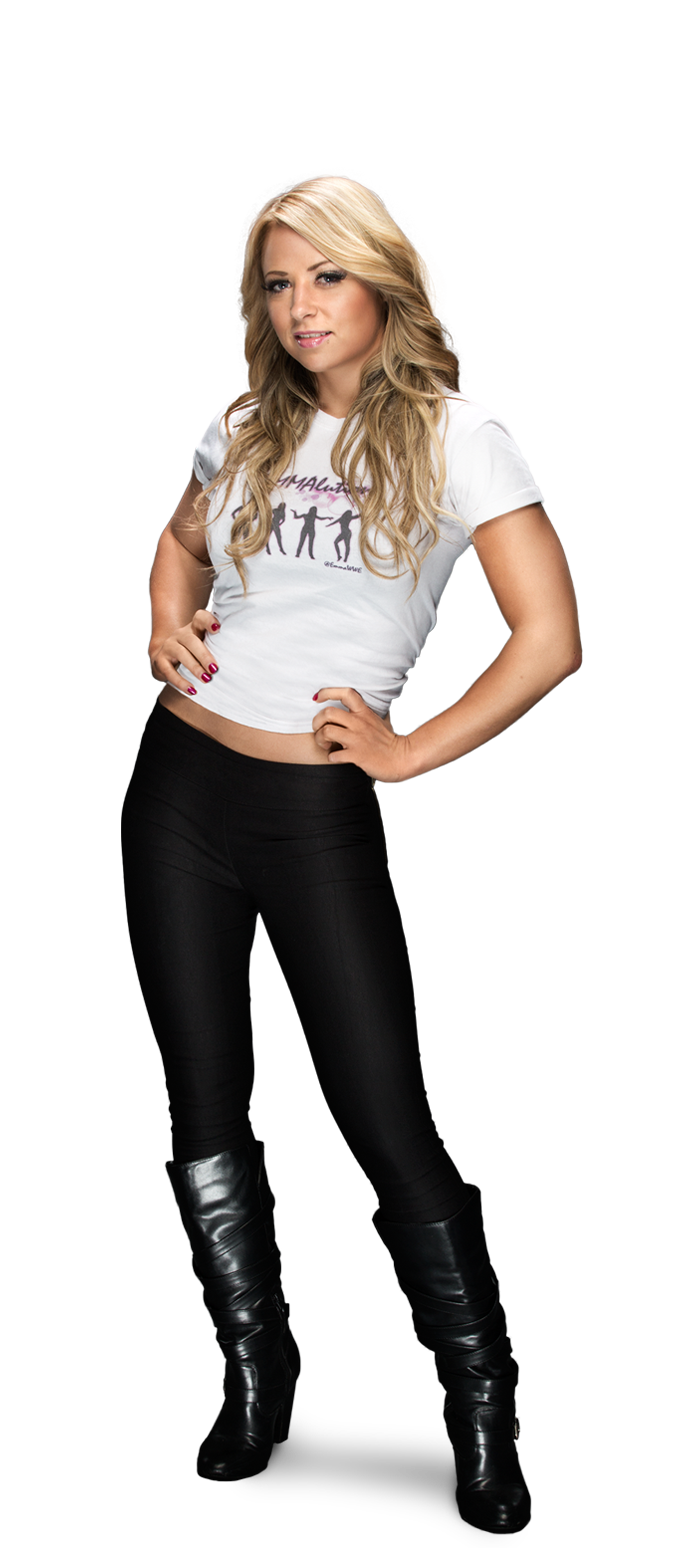person: (154, 158, 527, 533)
